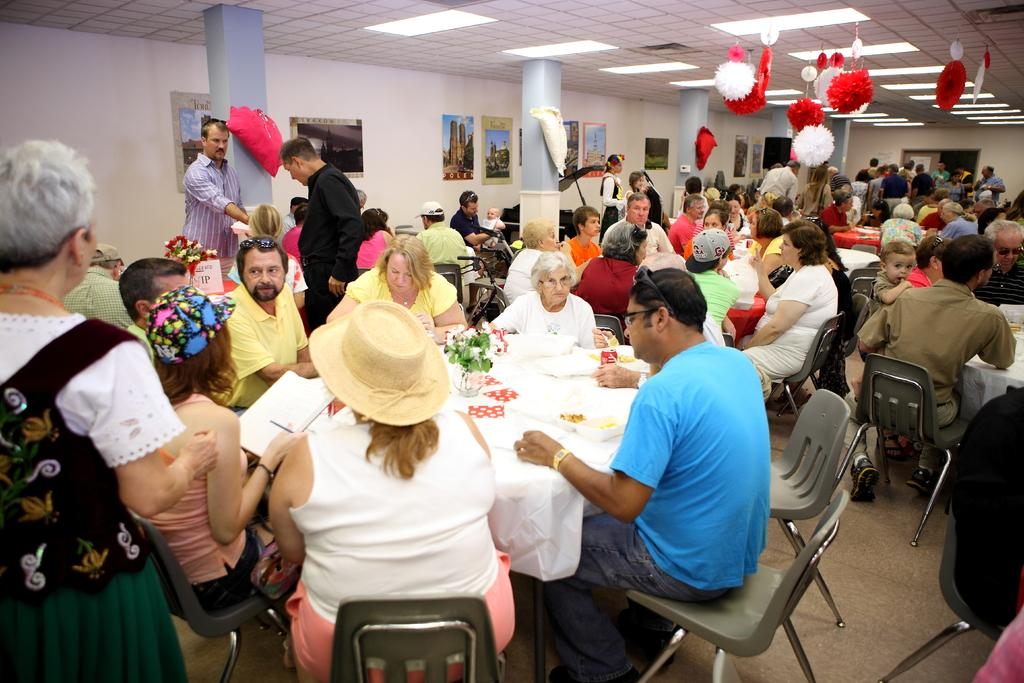Hat: (304, 292, 450, 428), (146, 282, 237, 363), (678, 225, 730, 274), (84, 240, 124, 262), (414, 199, 442, 216)
